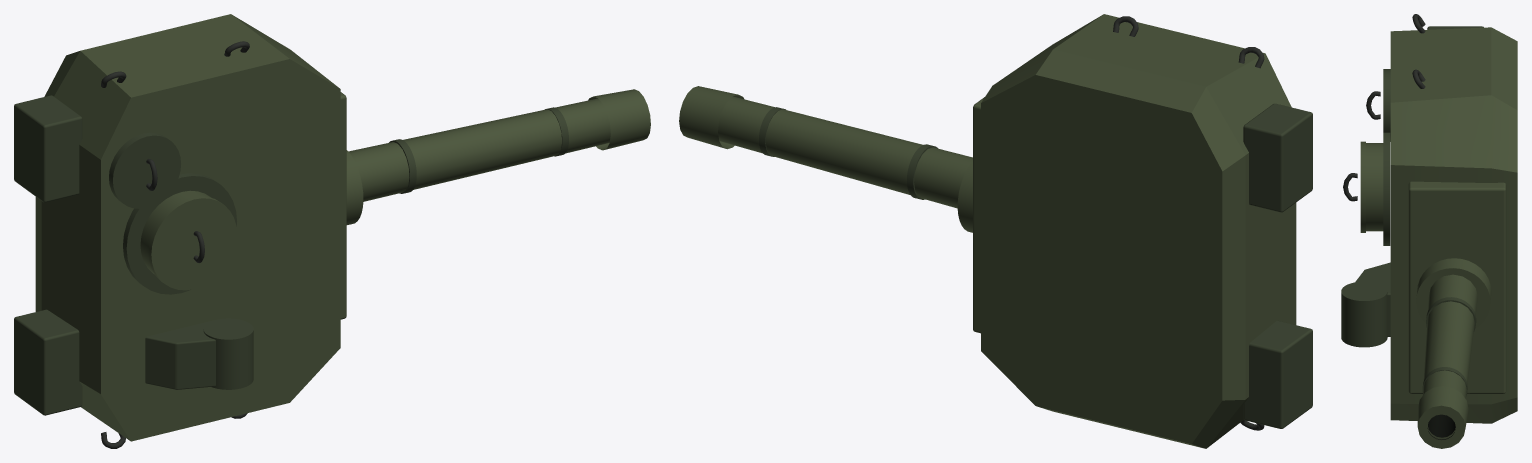
The model's file is turrentTank.fbx.
The picture shows the model from 3 angles, left to right: view 1: azimuth 30°, elevation 25°; view 2: azimuth 150°, elevation 25°; view 3: azimuth 270°, elevation 25°; orthographic projection. The views are drawn at different scales.
Parts seen in each view (by area): view 1: turrent; view 2: turrent; view 3: turrent.
Part boxes in pixels (x1,y1,x2,y2): turrent: (14, 14, 650, 448); turrent: (679, 14, 1312, 448); turrent: (1341, 14, 1517, 448).
Size of the model in its own units: 12.8 by 7.63 by 3.52.
